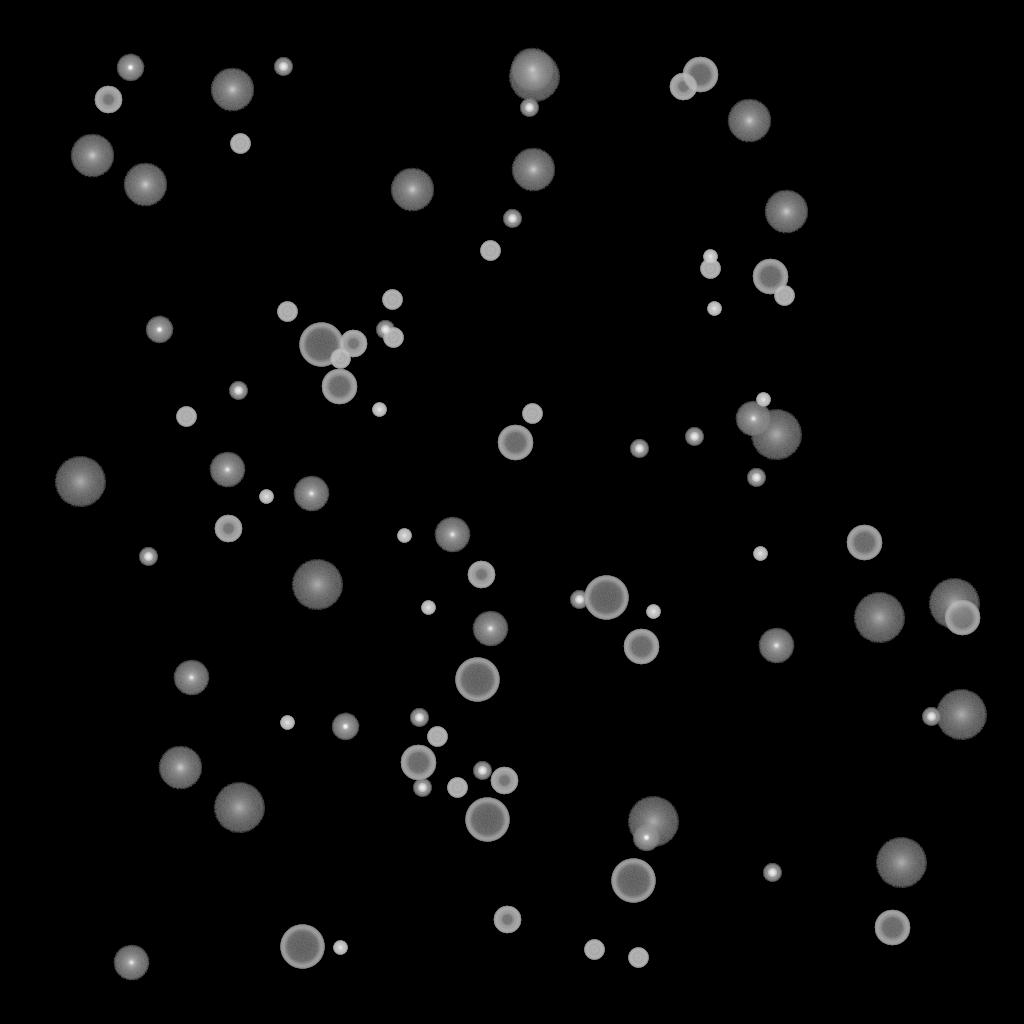depth:-10: (331, 713, 359, 741), (145, 316, 173, 344), (632, 824, 660, 852), (116, 54, 144, 82)
depth:-20: (503, 210, 521, 228), (229, 382, 247, 400), (413, 779, 431, 797), (473, 762, 491, 780), (139, 548, 157, 566), (763, 864, 781, 882), (630, 440, 648, 458), (747, 469, 765, 487), (376, 321, 394, 339), (570, 591, 588, 609), (922, 708, 940, 726), (685, 428, 703, 446), (410, 709, 428, 727), (520, 99, 538, 117), (274, 58, 292, 76)
depth:-30: (333, 941, 347, 955), (372, 403, 386, 417), (707, 302, 721, 316), (756, 393, 770, 407), (646, 605, 660, 619), (753, 547, 767, 561), (259, 490, 273, 504), (703, 250, 717, 264), (280, 716, 294, 730), (397, 529, 411, 543), (421, 601, 435, 615)
depth:-40: (330, 349, 350, 369), (382, 290, 402, 310), (176, 407, 196, 427), (628, 948, 648, 968), (277, 302, 297, 322), (383, 328, 403, 348), (584, 940, 604, 960), (427, 727, 447, 747), (480, 241, 500, 261), (230, 134, 250, 154), (700, 259, 720, 279), (447, 778, 467, 798), (522, 404, 542, 424), (774, 286, 794, 306)
depth:-50: (94, 86, 122, 114), (214, 515, 242, 543), (493, 906, 521, 934), (490, 767, 518, 795), (669, 73, 697, 101), (467, 561, 495, 589), (339, 330, 367, 358)
depth:-60: (497, 425, 533, 461), (400, 745, 436, 781), (623, 629, 659, 665), (321, 369, 357, 405), (874, 910, 910, 946), (846, 525, 882, 561), (682, 57, 718, 93), (752, 259, 788, 295), (944, 600, 980, 636)
depth:-70: (299, 323, 343, 367), (280, 925, 324, 969), (611, 859, 655, 903), (584, 576, 628, 620), (465, 798, 509, 842), (455, 658, 499, 702)
depth:0: (472, 611, 508, 647), (758, 628, 794, 664), (735, 401, 771, 437), (113, 945, 149, 981), (293, 476, 329, 512), (209, 452, 245, 488), (434, 517, 470, 553), (173, 660, 209, 696)
depth:10: (764, 190, 808, 234), (510, 48, 554, 92), (70, 134, 114, 178), (727, 99, 771, 143), (390, 168, 434, 212), (158, 746, 202, 790), (210, 68, 254, 112), (511, 148, 555, 192), (123, 163, 167, 207)
depth:20: (928, 579, 980, 629), (291, 560, 343, 610), (853, 593, 905, 643), (935, 690, 987, 740), (508, 52, 560, 102), (54, 457, 106, 507), (750, 410, 802, 460), (213, 783, 265, 833), (875, 838, 927, 888), (627, 797, 679, 847)
